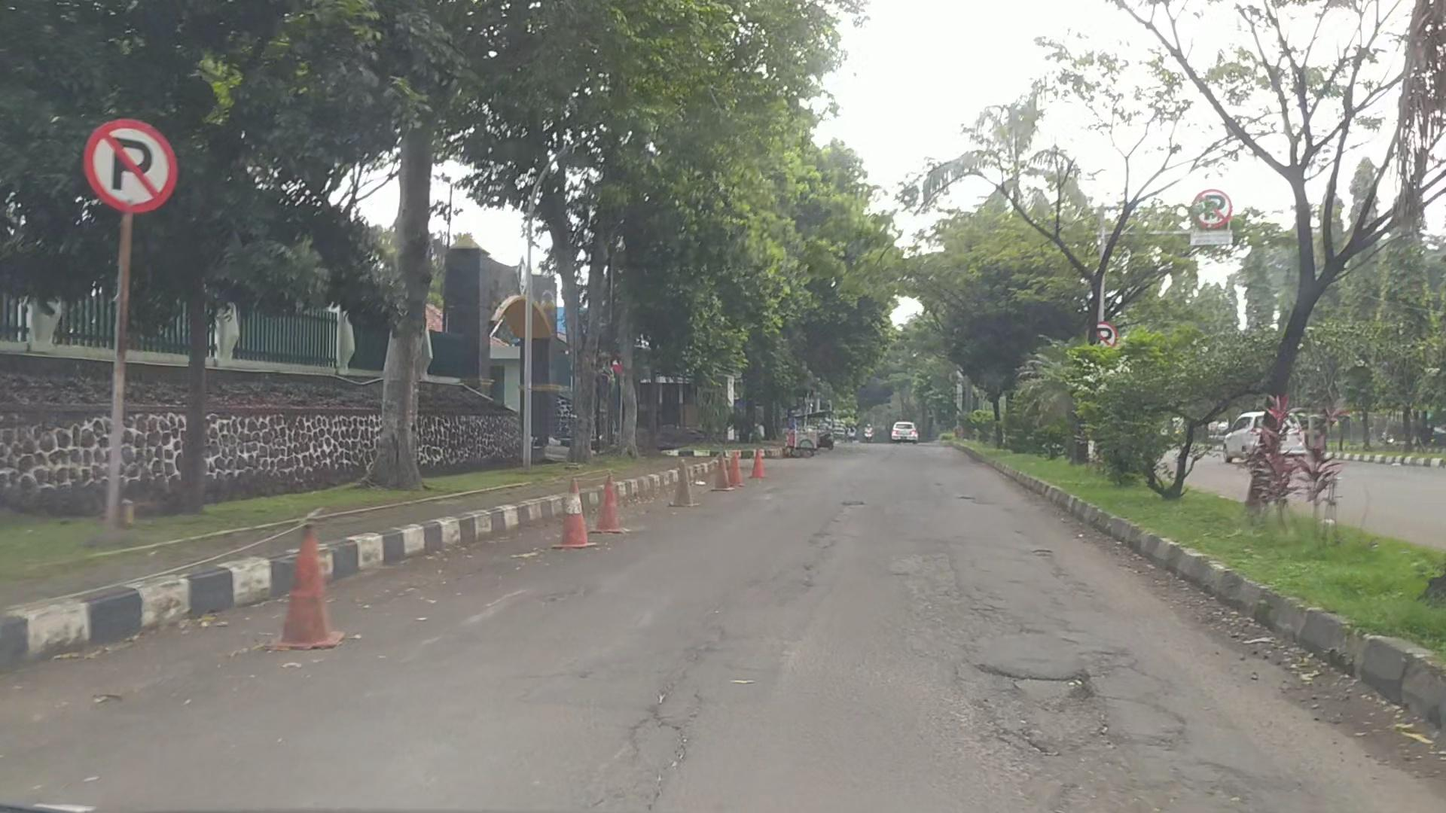pothole: (974, 664, 1106, 753)
